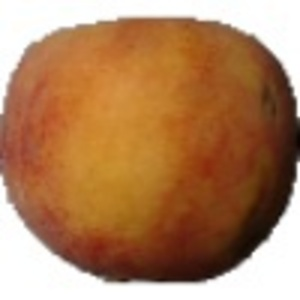pêssego: (1, 14, 300, 286)
